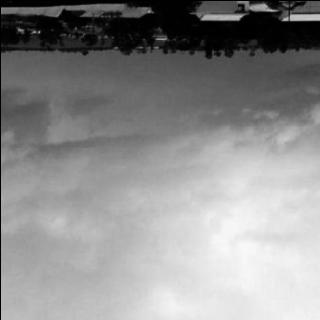Nimbostratus: (0, 48, 320, 320)
